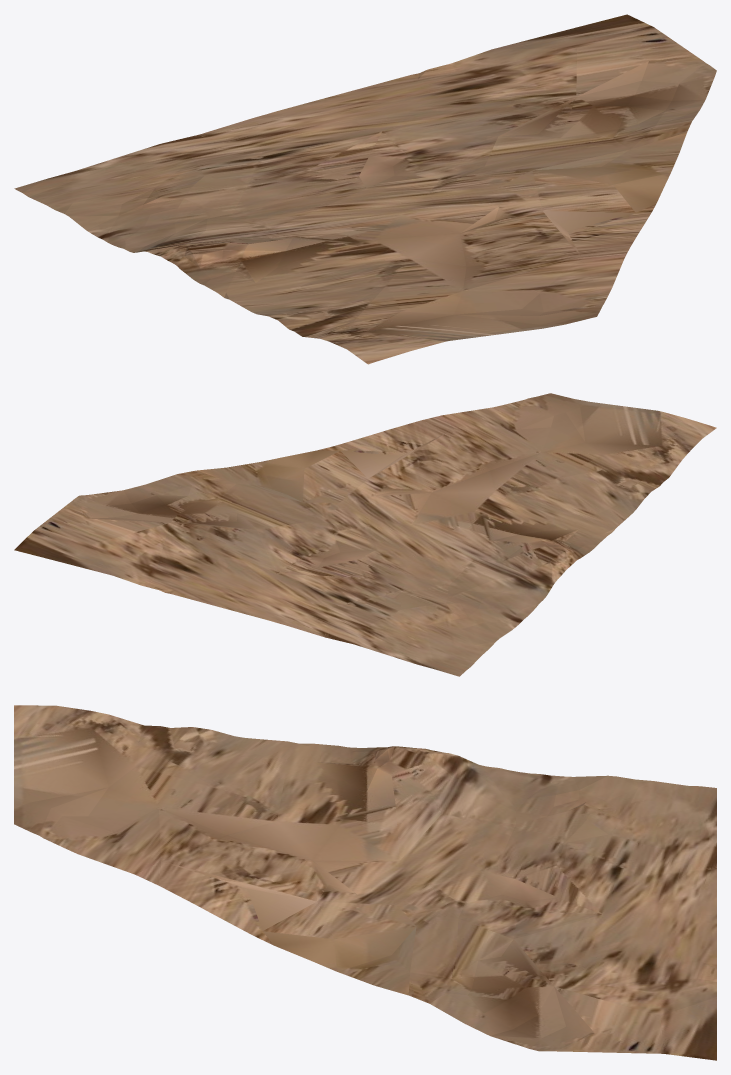
3 renders of one model, top to bottom at view 1: azimuth 30°, elevation 25°; view 2: azimuth 150°, elevation 25°; view 3: azimuth 270°, elevation 25°, orthographic. The views are drawn at different scales.
Bounding box in the file's own units: 4.18 × 0.5679 × 4.18.
Materials: 2 (2 with a texture image).
